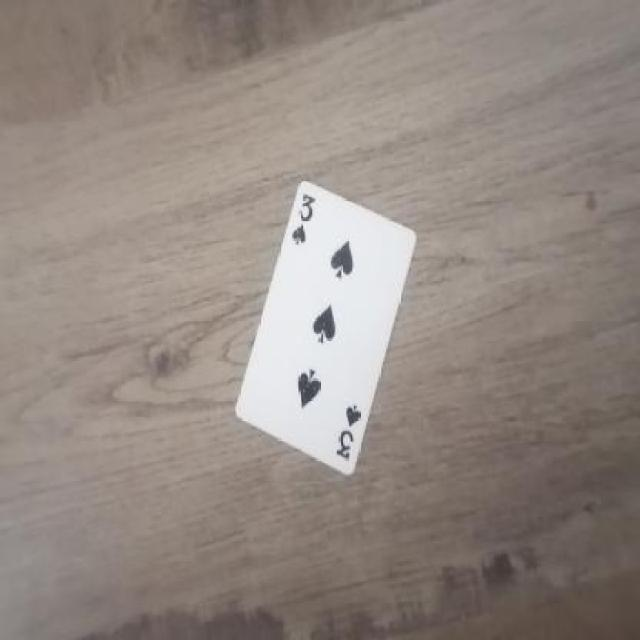3S: (282, 190, 328, 258), (330, 400, 364, 471)
